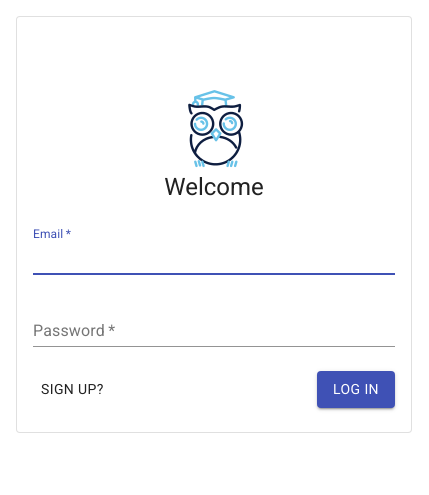
Test: Login › empty inputs should provide error messages
Click the button "Log In": (356,389) x1=317 y1=371 x2=395 y2=408
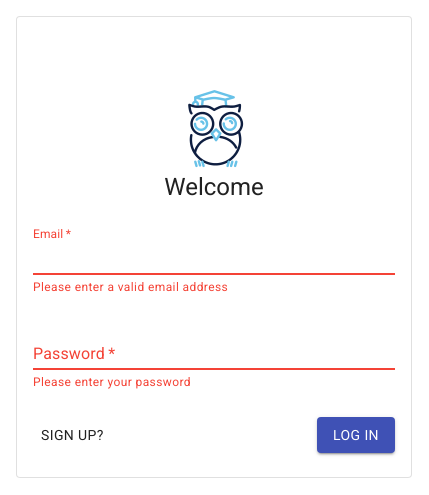
Result: the text "Please enter a valid email address" is shown at x1=33 y1=280 x2=228 y2=294
Result: the text "Please enter your password" is shown at x1=33 y1=375 x2=191 y2=389
